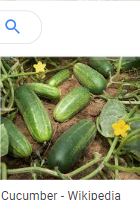cucumber: (14, 72, 51, 142), (49, 118, 94, 167)
